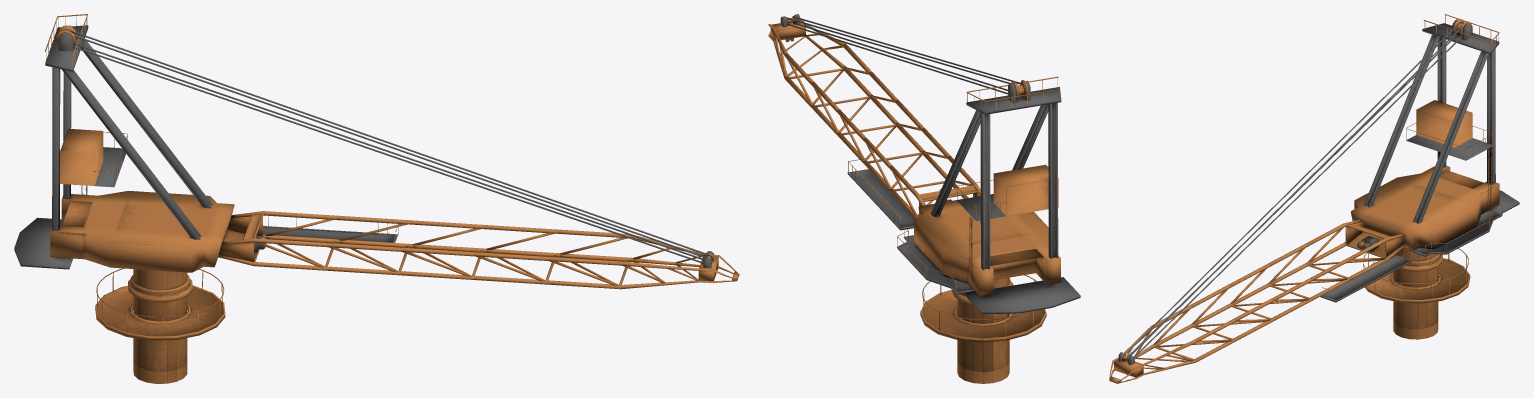
File: CraneBaru.fbx
The picture shows the model from 3 angles, left to right: view 1: azimuth 30°, elevation 25°; view 2: azimuth 150°, elevation 25°; view 3: azimuth 270°, elevation 25°; orthographic projection. The views are drawn at different scales.
Visible parts, largest first — view 1: cup.002; view 2: cup.002; view 3: cup.002.
Part boxes in pixels (x1,y1,x2,y2): cup.002: (14,14,739,383); cup.002: (768,14,1080,383); cup.002: (1109,14,1519,383).
Size of the model in its own units: 7225 by 4513 by 5935.
